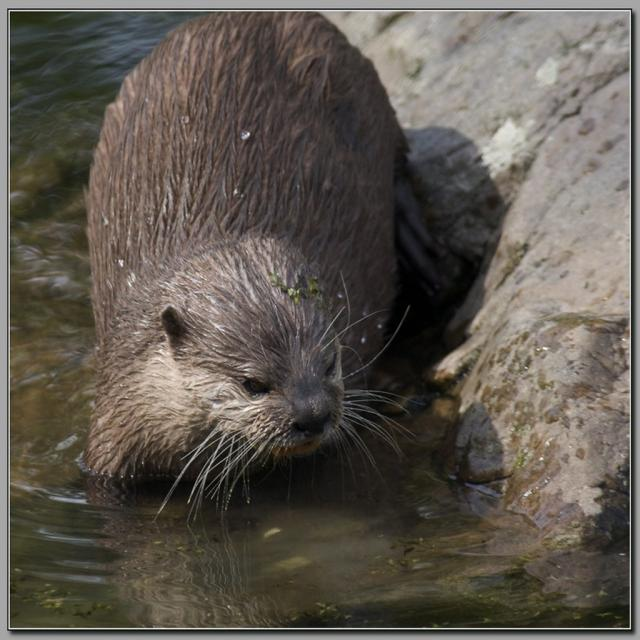otter: (88, 13, 398, 478)
